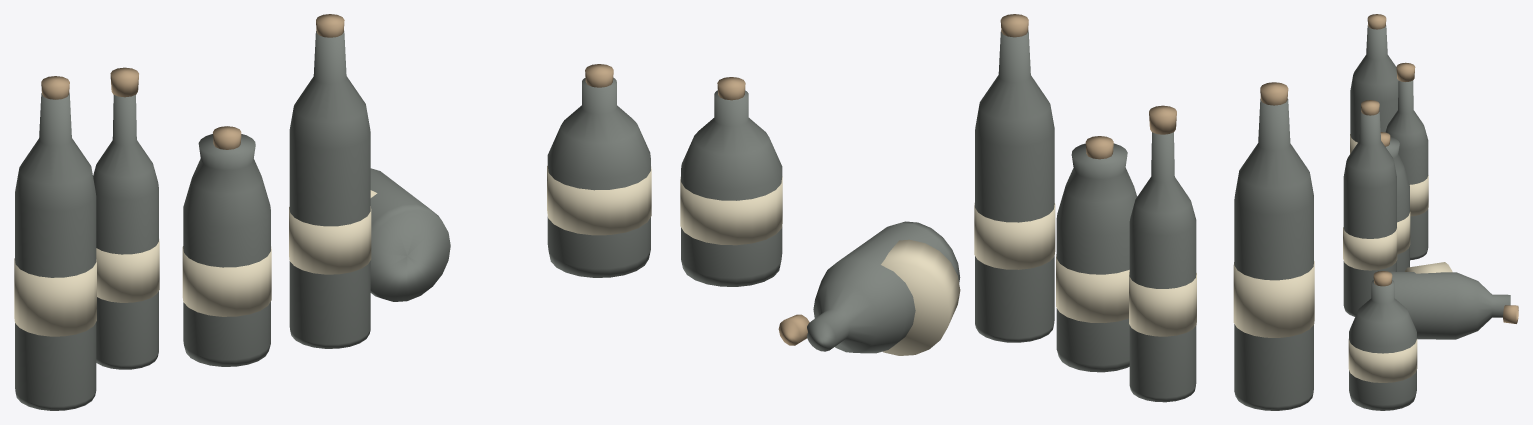
File: pantry_bottles.glb
The picture shows the model from 3 angles, left to right: view 1: azimuth 30°, elevation 25°; view 2: azimuth 150°, elevation 25°; view 3: azimuth 270°, elevation 25°; orthographic projection. The views are drawn at different scales.
Parts seen in each view (by area): view 1: pantry_bottles; view 2: pantry_bottles; view 3: pantry_bottles.
Part boxes in pixels (x1,y1,x2,y2): pantry_bottles: (14, 14, 651, 410); pantry_bottles: (680, 14, 1314, 410); pantry_bottles: (1343, 14, 1518, 410).
Bounding box in the file's own units: 0.6587 × 0.3146 × 0.2432.
